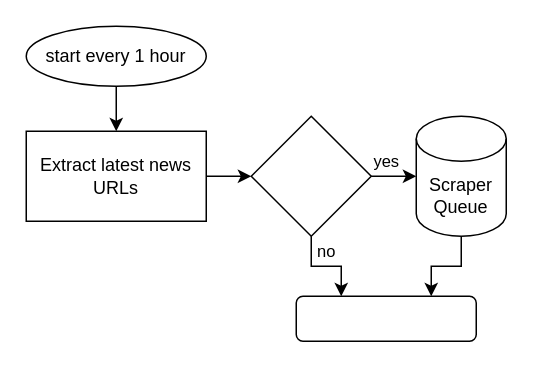
This 533x368 diagram has some shape labels left out. The shapes that lost their labels are listed below. From the top down, each one's centre as x and y in pixels, then its label:
point 310,175: any new news?
point 385,318: end
